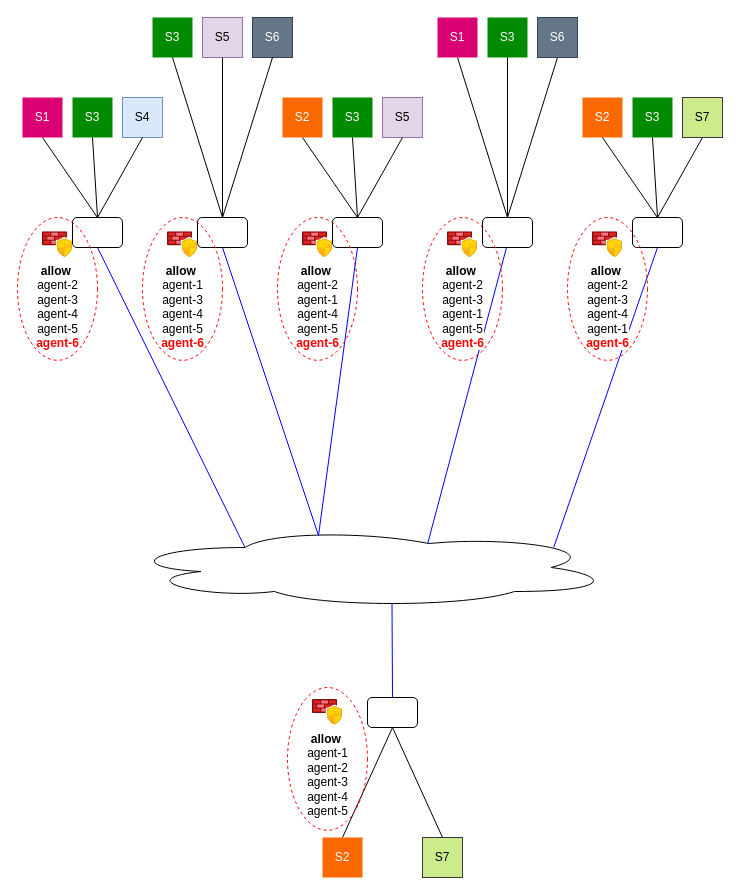
This 740x895 diagram has some shape labels left out. Each missing label, with the centre of its shape:
Agent-1: (97,232)
Agent-2: (222,232)
Agent-3: (357,232)
Agent-4: (507,232)
Agent-5: (657,232)
Agent-6: (392,712)
